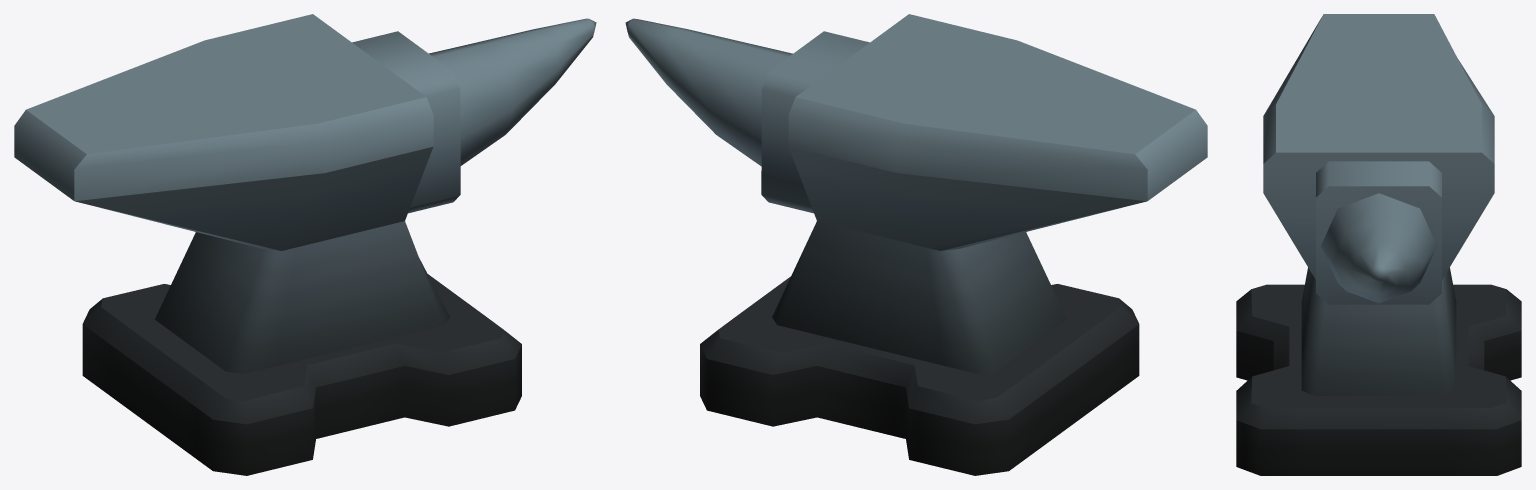
Rendered from Anvil.fbx.
3 renders of one model, left to right at view 1: azimuth 30°, elevation 25°; view 2: azimuth 150°, elevation 25°; view 3: azimuth 270°, elevation 25°, orthographic. The views are drawn at different scales.
Visible parts, largest first — view 1: Hammeringmachine.001; view 2: Hammeringmachine.001; view 3: Hammeringmachine.001.
Boxes of the visible parts, x1=… form: Hammeringmachine.001: x1=14, y1=14, x2=596, y2=475; Hammeringmachine.001: x1=625, y1=14, x2=1207, y2=475; Hammeringmachine.001: x1=1236, y1=14, x2=1521, y2=475.
Bounding box in the file's own units: 1.71 × 0.9288 × 0.8435.
